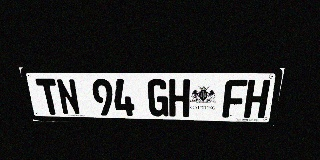4: (112, 79, 135, 116)
9: (91, 79, 115, 116)
F: (222, 80, 248, 118)
G: (147, 79, 168, 117)
H: (243, 80, 271, 118), (169, 79, 190, 117)
N: (55, 79, 81, 115)
T: (35, 79, 62, 115)
